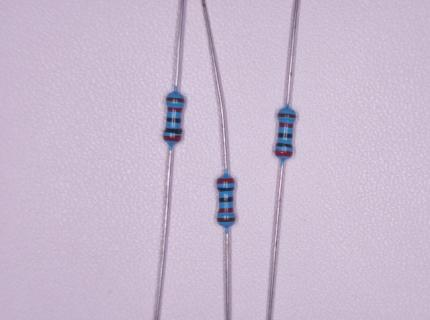Black band: (164, 127, 182, 134), (276, 142, 293, 148), (218, 197, 234, 203), (166, 117, 181, 123), (218, 187, 234, 192), (278, 133, 292, 138)
Brown band: (166, 97, 185, 103), (278, 113, 296, 119), (216, 218, 235, 222)
Red band: (275, 149, 292, 157), (216, 178, 235, 184), (167, 107, 183, 113), (163, 136, 181, 141), (279, 122, 293, 128), (218, 208, 233, 213)
